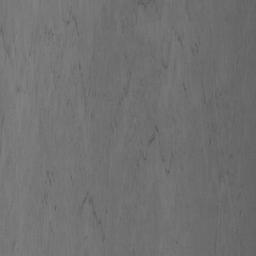Silk spot: (0, 0, 256, 256), (102, 0, 161, 34), (0, 109, 12, 166)
